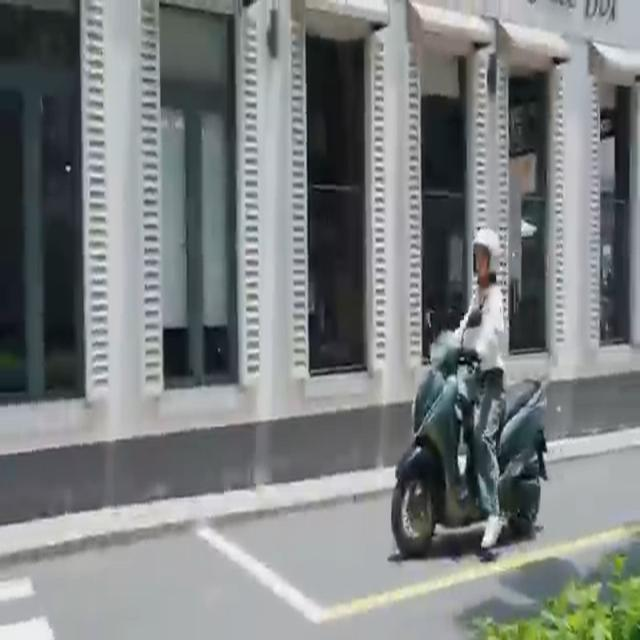motorcycle: (389, 306, 549, 558)
